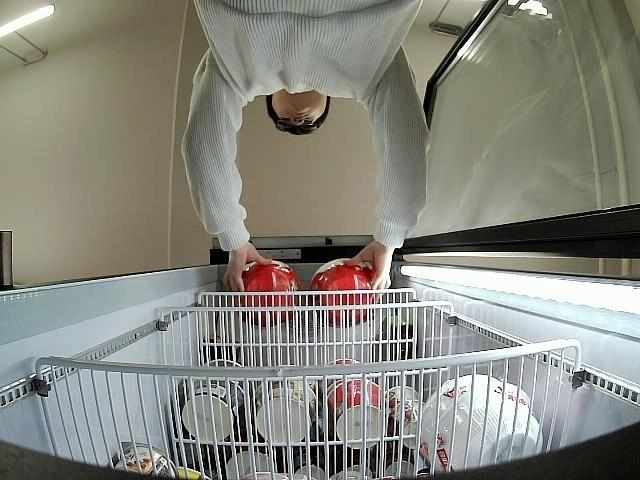10_wangTtukkeong: (312, 258, 376, 328), (239, 260, 300, 327)
